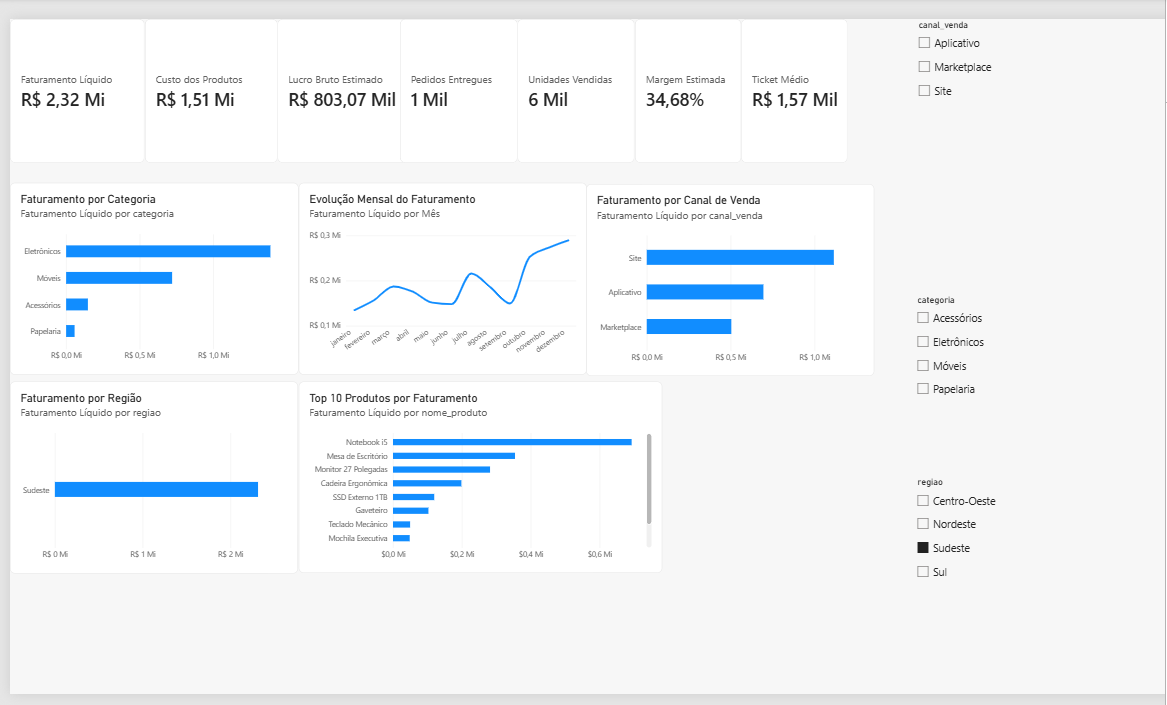

The dashboard page shown, as its layout file describes it:
{"tool":"powerbi","page":{"name":"Página 1","canvas":[1920,1080],"ordinal":0},"visuals":[{"type":"cardVisual","fields":{"Data":["itens_pedido.Faturamento Líquido"]},"box":[0,0,215.7,230],"z":0},{"type":"cardVisual","fields":{"Data":["itens_pedido.Custo dos Produtos"]},"box":[215.7,0,212.9,230],"z":1},{"type":"cardVisual","fields":{"Data":["itens_pedido.Lucro Bruto Estimado"]},"box":[428.6,0,207.1,230],"z":2},{"type":"cardVisual","fields":{"Data":["itens_pedido.Pedidos Entregues"]},"box":[624.3,0,188.6,230],"z":3},{"type":"cardVisual","fields":{"Data":["itens_pedido.Unidades Vendidas"]},"box":[812.9,0,187.1,230],"z":4},{"type":"cardVisual","fields":{"Data":["itens_pedido.Margem Estimada"]},"box":[1000,0,170,230],"z":5},{"type":"cardVisual","fields":{"Data":["itens_pedido.Ticket Médio"]},"box":[1170,0,170,230],"z":6},{"type":"clusteredBarChart","title":"Faturamento por Categoria","fields":{"Category":["produtos.categoria"],"Y":["itens_pedido.Faturamento Líquido"]},"box":[0,262.9,461.4,307.1],"z":7},{"type":"lineChart","title":"Evolução Mensal do Faturamento","fields":{"Category":["pedidos.data_pedido.Variation.Hierarquia de datas.Mês","pedidos.data_pedido.Variation.Hierarquia de datas.Dia"],"Y":["itens_pedido.Faturamento Líquido"]},"box":[461.4,262.9,461,307],"z":8},{"type":"clusteredBarChart","title":"Faturamento por Canal de Venda","fields":{"Category":["pedidos.canal_venda"],"Y":["itens_pedido.Faturamento Líquido"]},"box":[922.9,264.3,461,307],"z":9},{"type":"clusteredBarChart","title":"Faturamento por Região","fields":{"Category":["clientes.regiao"],"Y":["itens_pedido.Faturamento Líquido"]},"box":[0,580,461,307],"z":10},{"type":"clusteredBarChart","title":"Top 10 Produtos por Faturamento","fields":{"Category":["produtos.nome_produto"],"Y":["itens_pedido.Faturamento Líquido"]},"box":[461.7,580,581.7,306.7],"z":11},{"type":"slicer","fields":{"Values":["clientes.regiao"]},"box":[1228.3,641.7,156.7,181.7],"z":12},{"type":"slicer","fields":{"Values":["produtos.categoria"]},"box":[1053.3,733.3,201.7,171.7],"z":13},{"type":"slicer","fields":{"Values":["pedidos.canal_venda"]},"box":[1051.7,580,288.3,230],"z":14}]}

Visuals, with their boxes on the page's 1920x1080 design canvas (x1, y1, x2, y2). These are canvas units, not pixel positions in the 1167x705 screenshot, which may show the page scaled, cropped or inside an application window:
cardVisual - itens_pedido.Faturamento Líquido: {"left": 0, "top": 0, "right": 216, "bottom": 230}
cardVisual - itens_pedido.Custo dos Produtos: {"left": 216, "top": 0, "right": 429, "bottom": 230}
cardVisual - itens_pedido.Lucro Bruto Estimado: {"left": 429, "top": 0, "right": 636, "bottom": 230}
cardVisual - itens_pedido.Pedidos Entregues: {"left": 624, "top": 0, "right": 813, "bottom": 230}
cardVisual - itens_pedido.Unidades Vendidas: {"left": 813, "top": 0, "right": 1000, "bottom": 230}
cardVisual - itens_pedido.Margem Estimada: {"left": 1000, "top": 0, "right": 1170, "bottom": 230}
cardVisual - itens_pedido.Ticket Médio: {"left": 1170, "top": 0, "right": 1340, "bottom": 230}
"Faturamento por Categoria" clusteredBarChart: {"left": 0, "top": 263, "right": 461, "bottom": 570}
"Evolução Mensal do Faturamento" lineChart: {"left": 461, "top": 263, "right": 922, "bottom": 570}
"Faturamento por Canal de Venda" clusteredBarChart: {"left": 923, "top": 264, "right": 1384, "bottom": 571}
"Faturamento por Região" clusteredBarChart: {"left": 0, "top": 580, "right": 461, "bottom": 887}
"Top 10 Produtos por Faturamento" clusteredBarChart: {"left": 462, "top": 580, "right": 1043, "bottom": 887}
slicer - clientes.regiao: {"left": 1228, "top": 642, "right": 1385, "bottom": 823}
slicer - produtos.categoria: {"left": 1053, "top": 733, "right": 1255, "bottom": 905}
slicer - pedidos.canal_venda: {"left": 1052, "top": 580, "right": 1340, "bottom": 810}
